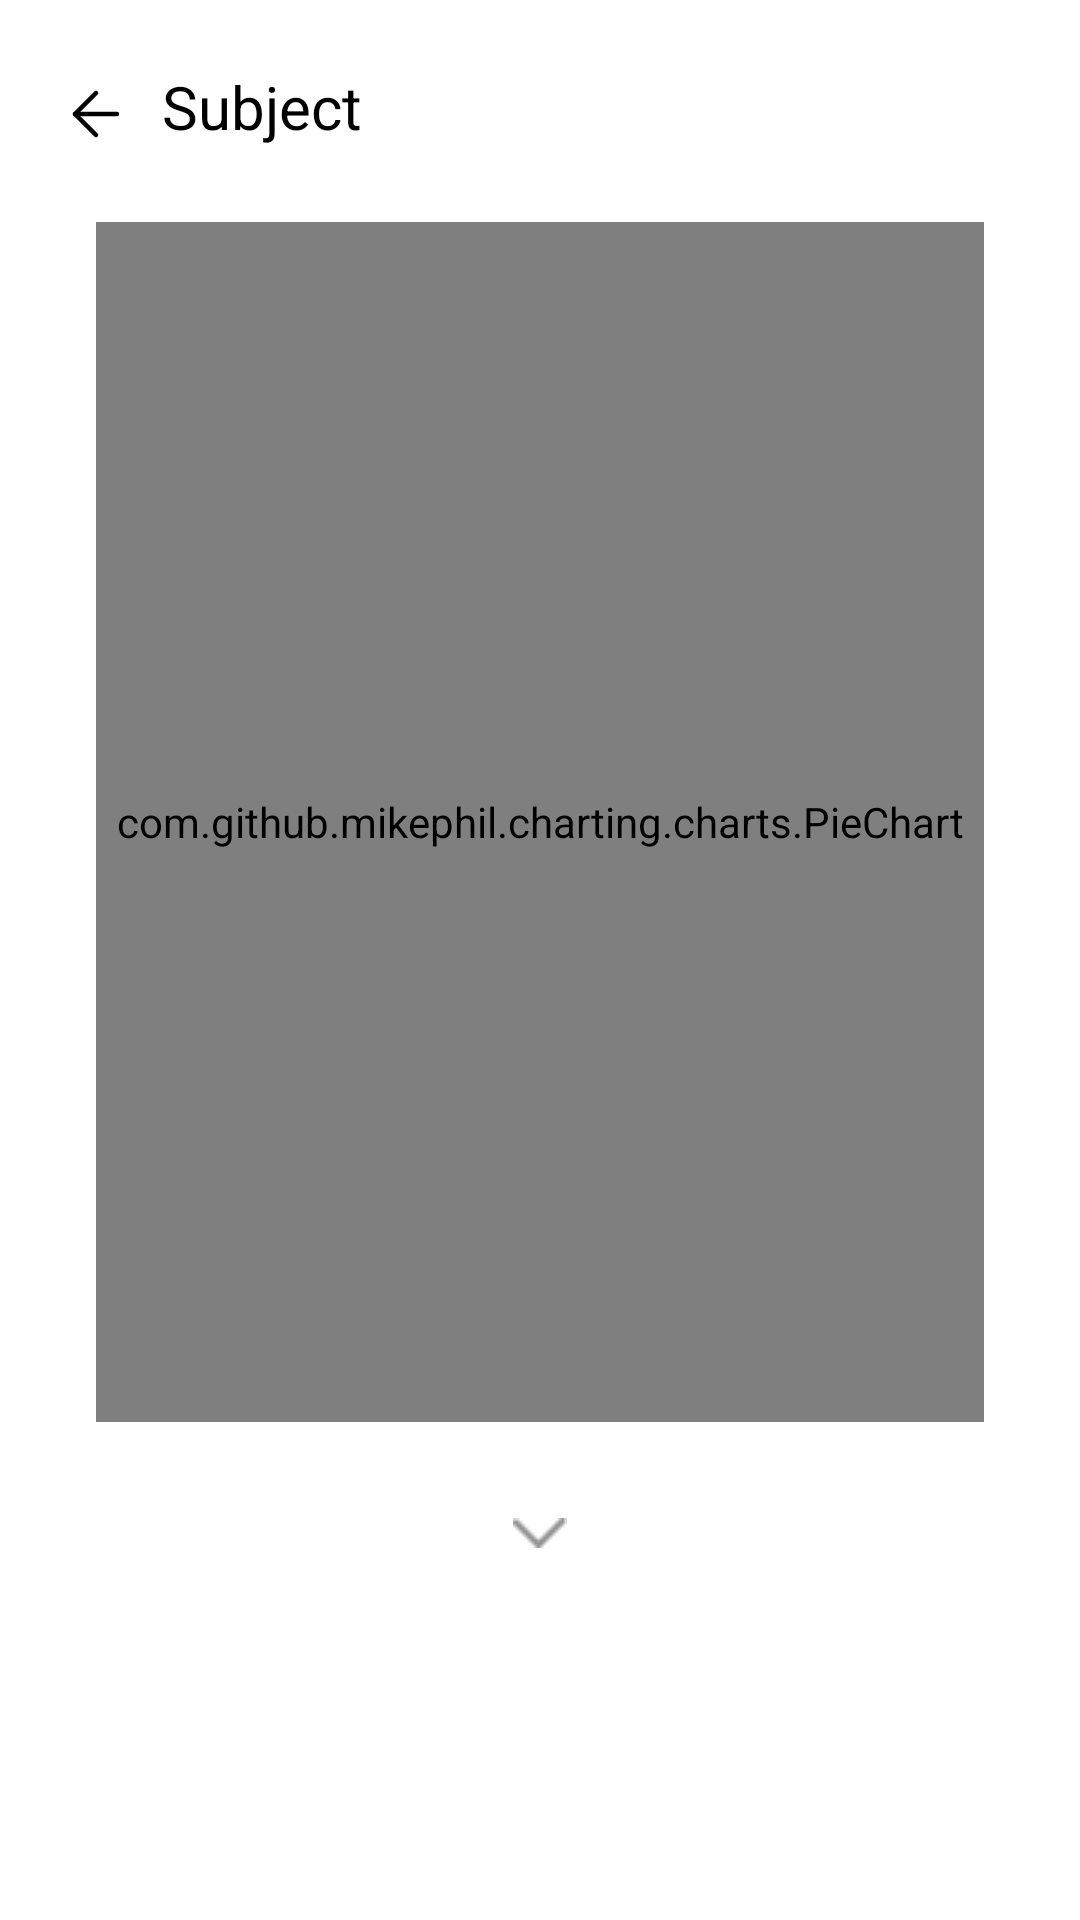

Where icons sit on this 1080px x 1920px app screen, as (x1, y1, x2, y2):
arrow left: (72, 90, 120, 138)
down draw: (513, 1518, 567, 1548)
